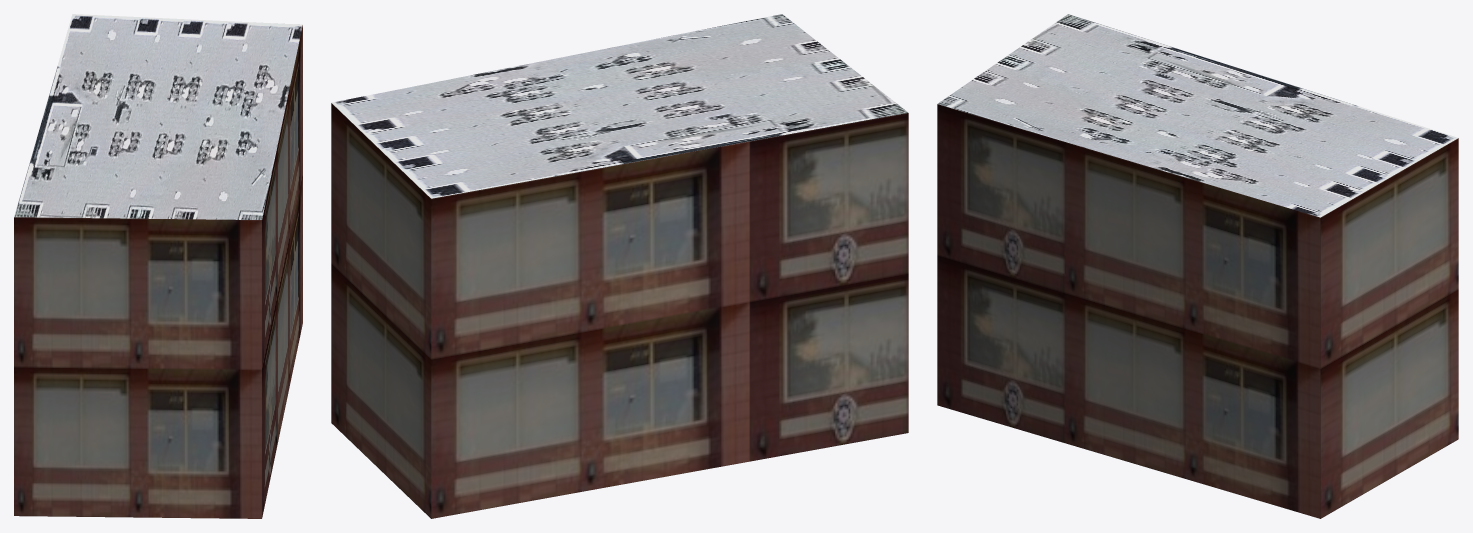
Rendered from ResTex__2216.fbx.
3 renders of one model, left to right at view 1: azimuth 30°, elevation 25°; view 2: azimuth 150°, elevation 25°; view 3: azimuth 270°, elevation 25°, orthographic. The views are drawn at different scales.
Visible parts, largest first — view 1: CityEngineMaterial_13_m, CityEngineMaterial_4_m; view 2: CityEngineMaterial_13_m, CityEngineMaterial_4_m; view 3: CityEngineMaterial_13_m, CityEngineMaterial_4_m.
Boxes of the visible parts, left/top/right/bottom form: CityEngineMaterial_13_m: left=14, top=25, right=302, bottom=518; CityEngineMaterial_4_m: left=14, top=14, right=302, bottom=219; CityEngineMaterial_13_m: left=331, top=103, right=908, bottom=518; CityEngineMaterial_4_m: left=331, top=14, right=908, bottom=198; CityEngineMaterial_13_m: left=937, top=104, right=1458, bottom=518; CityEngineMaterial_4_m: left=938, top=14, right=1457, bottom=217.
Bounding box in the file's own units: 8.7 × 6 × 9.41.
Materials: 2 (2 with a texture image).
